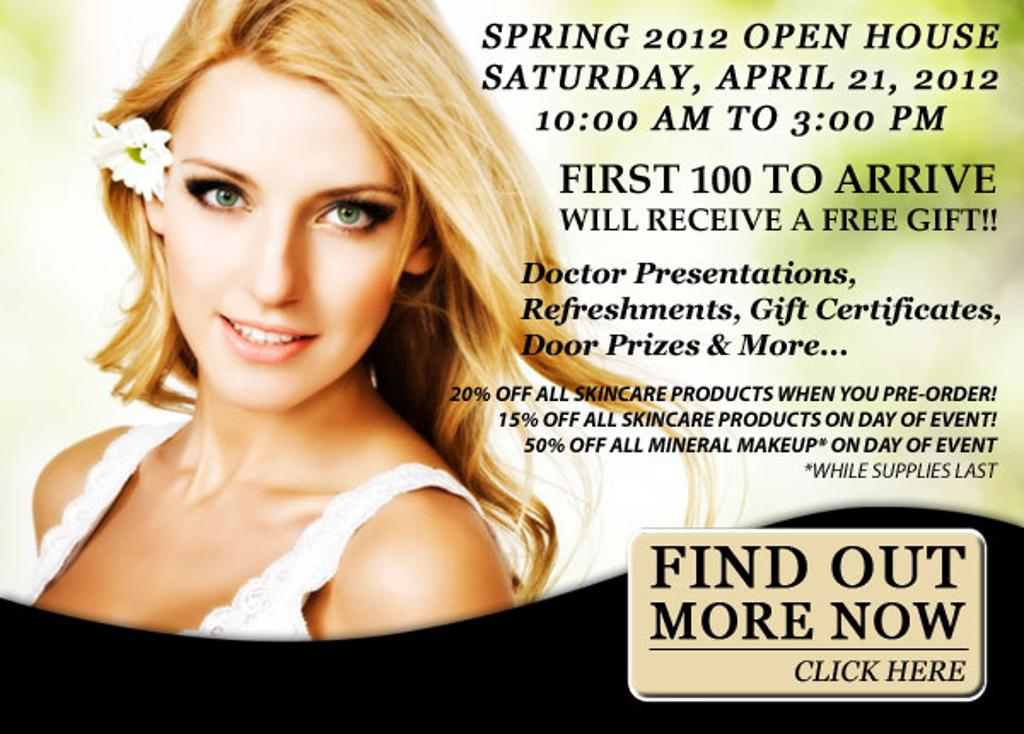face: (166, 68, 414, 412)
